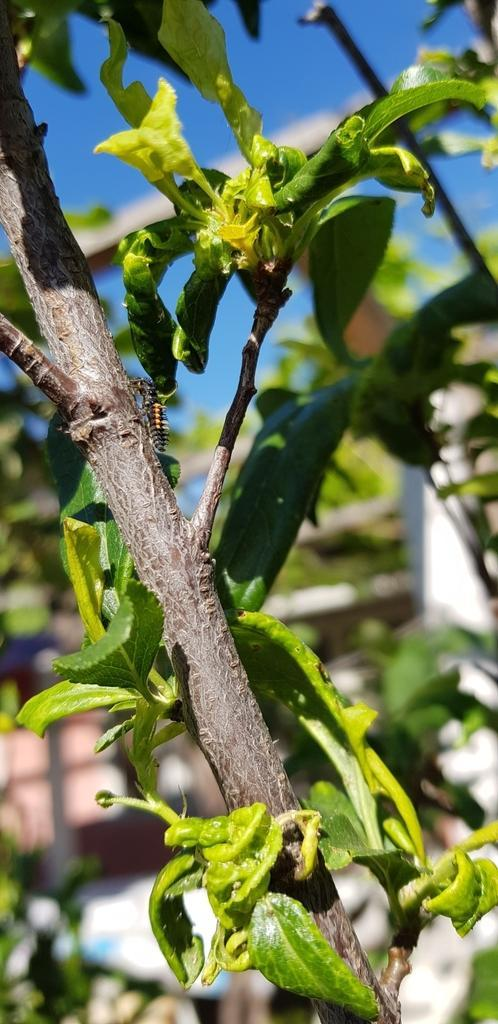ladybug: (130, 375, 174, 456)
